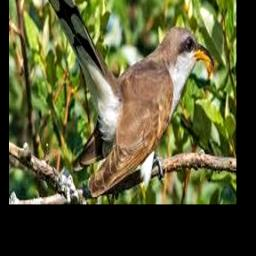Cuckoo: (39, 0, 215, 196)
